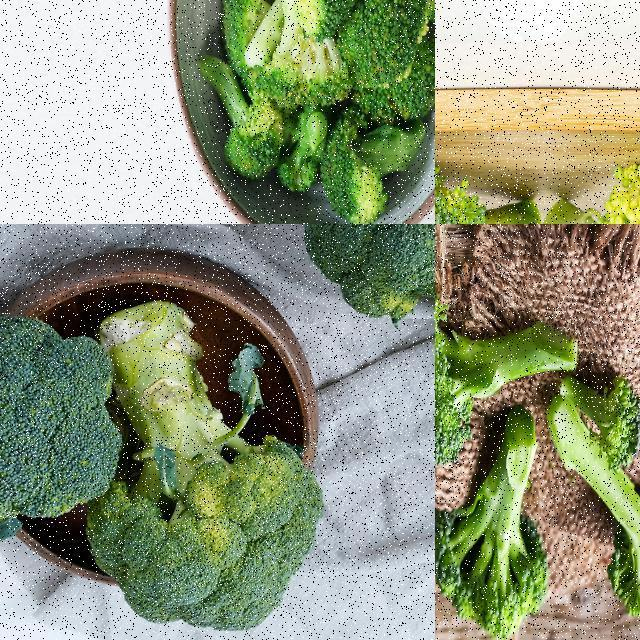broccoli: (95, 304, 326, 632), (435, 282, 578, 472), (435, 411, 554, 639), (0, 312, 119, 528), (545, 368, 639, 627), (306, 224, 434, 358), (190, 47, 284, 184), (324, 103, 423, 223), (253, 0, 352, 113), (338, 0, 424, 88), (261, 0, 360, 41)
